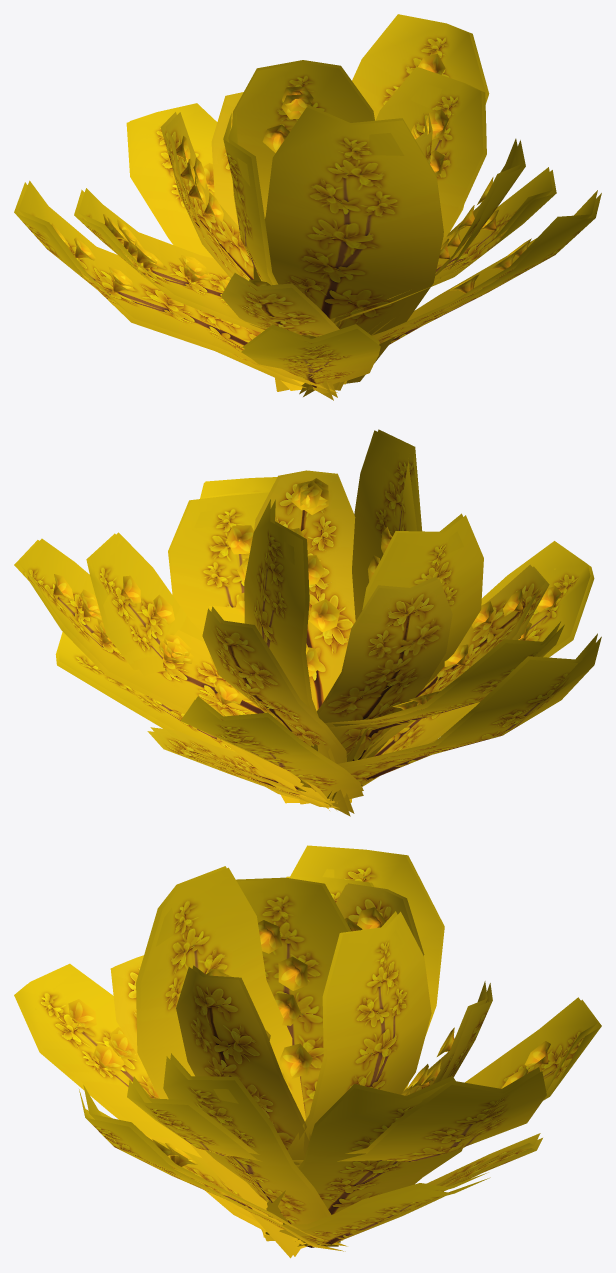
File: SE_Bush_02.fbx
3 renders of one model, top to bottom at view 1: azimuth 30°, elevation 25°; view 2: azimuth 150°, elevation 25°; view 3: azimuth 270°, elevation 25°, orthographic. The views are drawn at different scales.
Parts seen in each view (by area): view 1: SE_Bush_02; view 2: SE_Bush_02; view 3: SE_Bush_02.
Boxes of the visible parts, left/top/right/bottom form: SE_Bush_02: left=14, top=14, right=601, bottom=400; SE_Bush_02: left=14, top=429, right=601, bottom=816; SE_Bush_02: left=14, top=845, right=601, bottom=1258.
Size of the model in its own units: 11.16 by 6.94 by 10.4.
